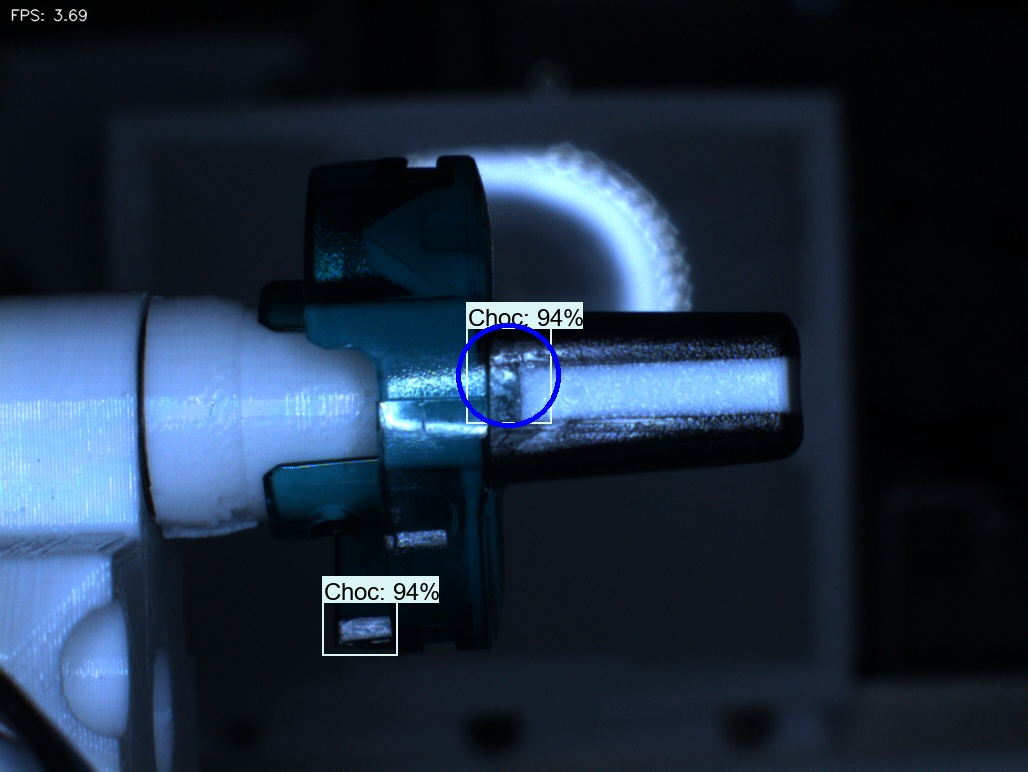DentOk: (334, 197, 401, 285)
